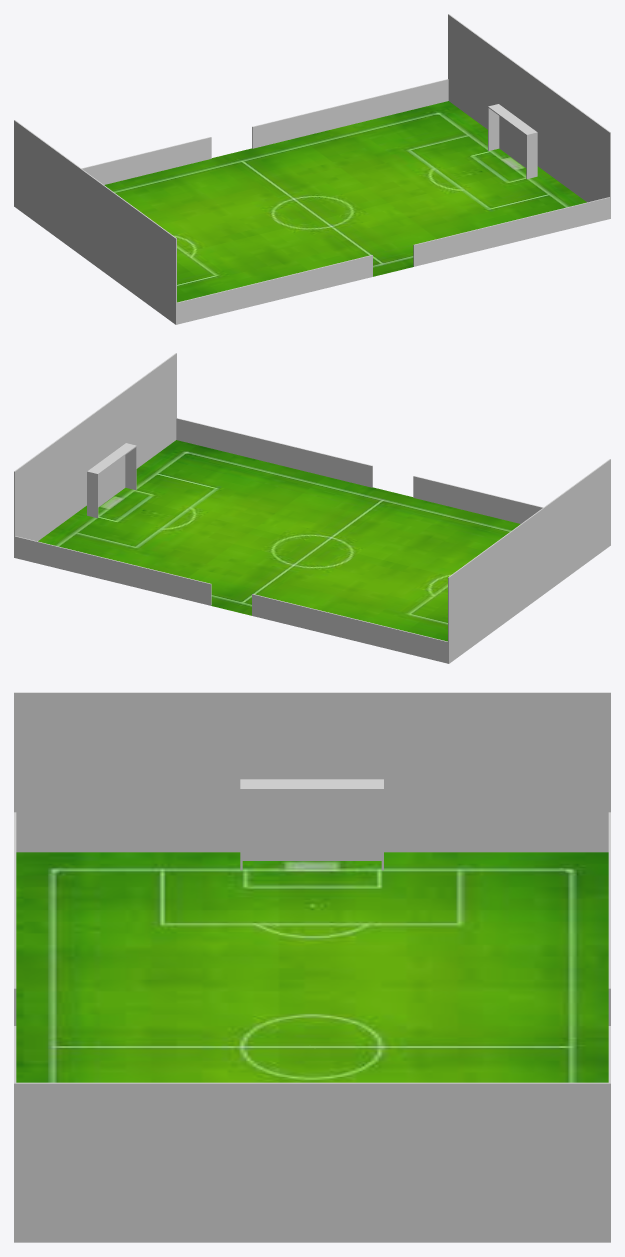
Rendered from football pich.fbx.
The picture shows the model from 3 angles, top to bottom: view 1: azimuth 30°, elevation 25°; view 2: azimuth 150°, elevation 25°; view 3: azimuth 270°, elevation 25°; orthographic projection. The views are drawn at different scales.
Visible parts, largest first — view 1: Football Pich, Barrier, Goalpost_2; view 2: Football Pich, Barrier, Goalpost_2; view 3: Barrier, Football Pich, Goalpost_2.002.
Boxes of the visible parts, x1,y1,x2,y2 form: Football Pich: (104, 101, 586, 302); Barrier: (14, 14, 610, 324); Goalpost_2: (488, 104, 537, 178); Football Pich: (38, 440, 520, 641); Barrier: (14, 353, 610, 663); Goalpost_2: (87, 443, 136, 518); Barrier: (14, 692, 610, 1242); Football Pich: (16, 852, 608, 1082); Goalpost_2.002: (240, 779, 383, 870).
Size of the model in its own units: 2110 by 400 by 1360.
2 materials, 1 textured.
